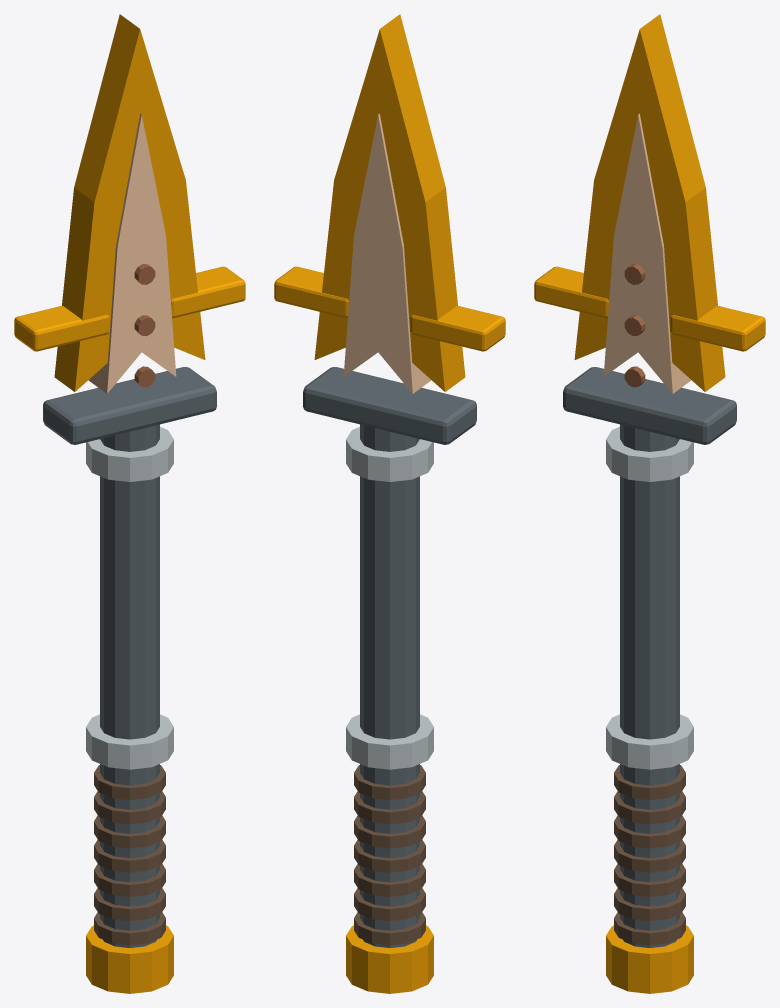
Rendered from RelayLance.fbx.
The picture shows the model from 3 angles, left to right: view 1: azimuth 30°, elevation 25°; view 2: azimuth 150°, elevation 25°; view 3: azimuth 330°, elevation 25°; orthographic projection.
Visible parts, largest first — view 1: Silhouette.008, Manche.008, Noyau.008, Garde.008, Pommeau.008, Collier.016, Collier.017, Ailette.002, Ailette.003, Bande_06.008, Bande_04.008, Bande_00.008 (+4 smaller); view 2: Silhouette.008, Manche.008, Noyau.008, Garde.008, Pommeau.008, Collier.016, Collier.017, Ailette.002, Ailette.003, Bande_06.008, Bande_04.008, Bande_00.008 (+4 smaller); view 3: Silhouette.008, Manche.008, Noyau.008, Garde.008, Pommeau.008, Collier.016, Collier.017, Ailette.003, Ailette.002, Bande_06.008, Bande_04.008, Bande_00.008 (+4 smaller).
Boxes of the visible parts, left/top/right/bottom form: Silhouette.008: left=54, top=14, right=205, bottom=391; Manche.008: left=100, top=424, right=159, bottom=947; Noyau.008: left=88, top=113, right=176, bottom=393; Garde.008: left=43, top=367, right=216, bottom=444; Pommeau.008: left=86, top=925, right=173, bottom=993; Collier.016: left=86, top=714, right=173, bottom=769; Collier.017: left=86, top=427, right=173, bottom=481; Ailette.002: left=14, top=306, right=109, bottom=351; Ailette.003: left=171, top=266, right=245, bottom=318; Bande_06.008: left=94, top=765, right=165, bottom=799; Bande_04.008: left=94, top=815, right=165, bottom=848; Bande_00.008: left=94, top=912, right=165, bottom=945; Silhouette.008: left=314, top=14, right=465, bottom=391; Manche.008: left=360, top=424, right=419, bottom=947; Noyau.008: left=343, top=113, right=431, bottom=393; Garde.008: left=303, top=367, right=476, bottom=444; Pommeau.008: left=346, top=925, right=433, bottom=993; Collier.016: left=346, top=714, right=433, bottom=769; Collier.017: left=346, top=427, right=433, bottom=481; Ailette.002: left=410, top=306, right=505, bottom=351; Ailette.003: left=274, top=266, right=348, bottom=318; Bande_06.008: left=354, top=765, right=425, bottom=799; Bande_04.008: left=354, top=815, right=425, bottom=848; Bande_00.008: left=354, top=912, right=425, bottom=945; Silhouette.008: left=574, top=14, right=725, bottom=391; Manche.008: left=620, top=424, right=679, bottom=947; Noyau.008: left=603, top=113, right=691, bottom=393; Garde.008: left=563, top=367, right=736, bottom=444; Pommeau.008: left=606, top=925, right=693, bottom=993; Collier.016: left=606, top=714, right=693, bottom=769; Collier.017: left=606, top=427, right=693, bottom=481; Ailette.003: left=670, top=306, right=765, bottom=351; Ailette.002: left=534, top=266, right=608, bottom=318; Bande_06.008: left=614, top=765, right=685, bottom=799; Bande_04.008: left=614, top=815, right=685, bottom=848; Bande_00.008: left=614, top=912, right=685, bottom=945.
Size of the model in its own units: 78 by 335 by 28.
